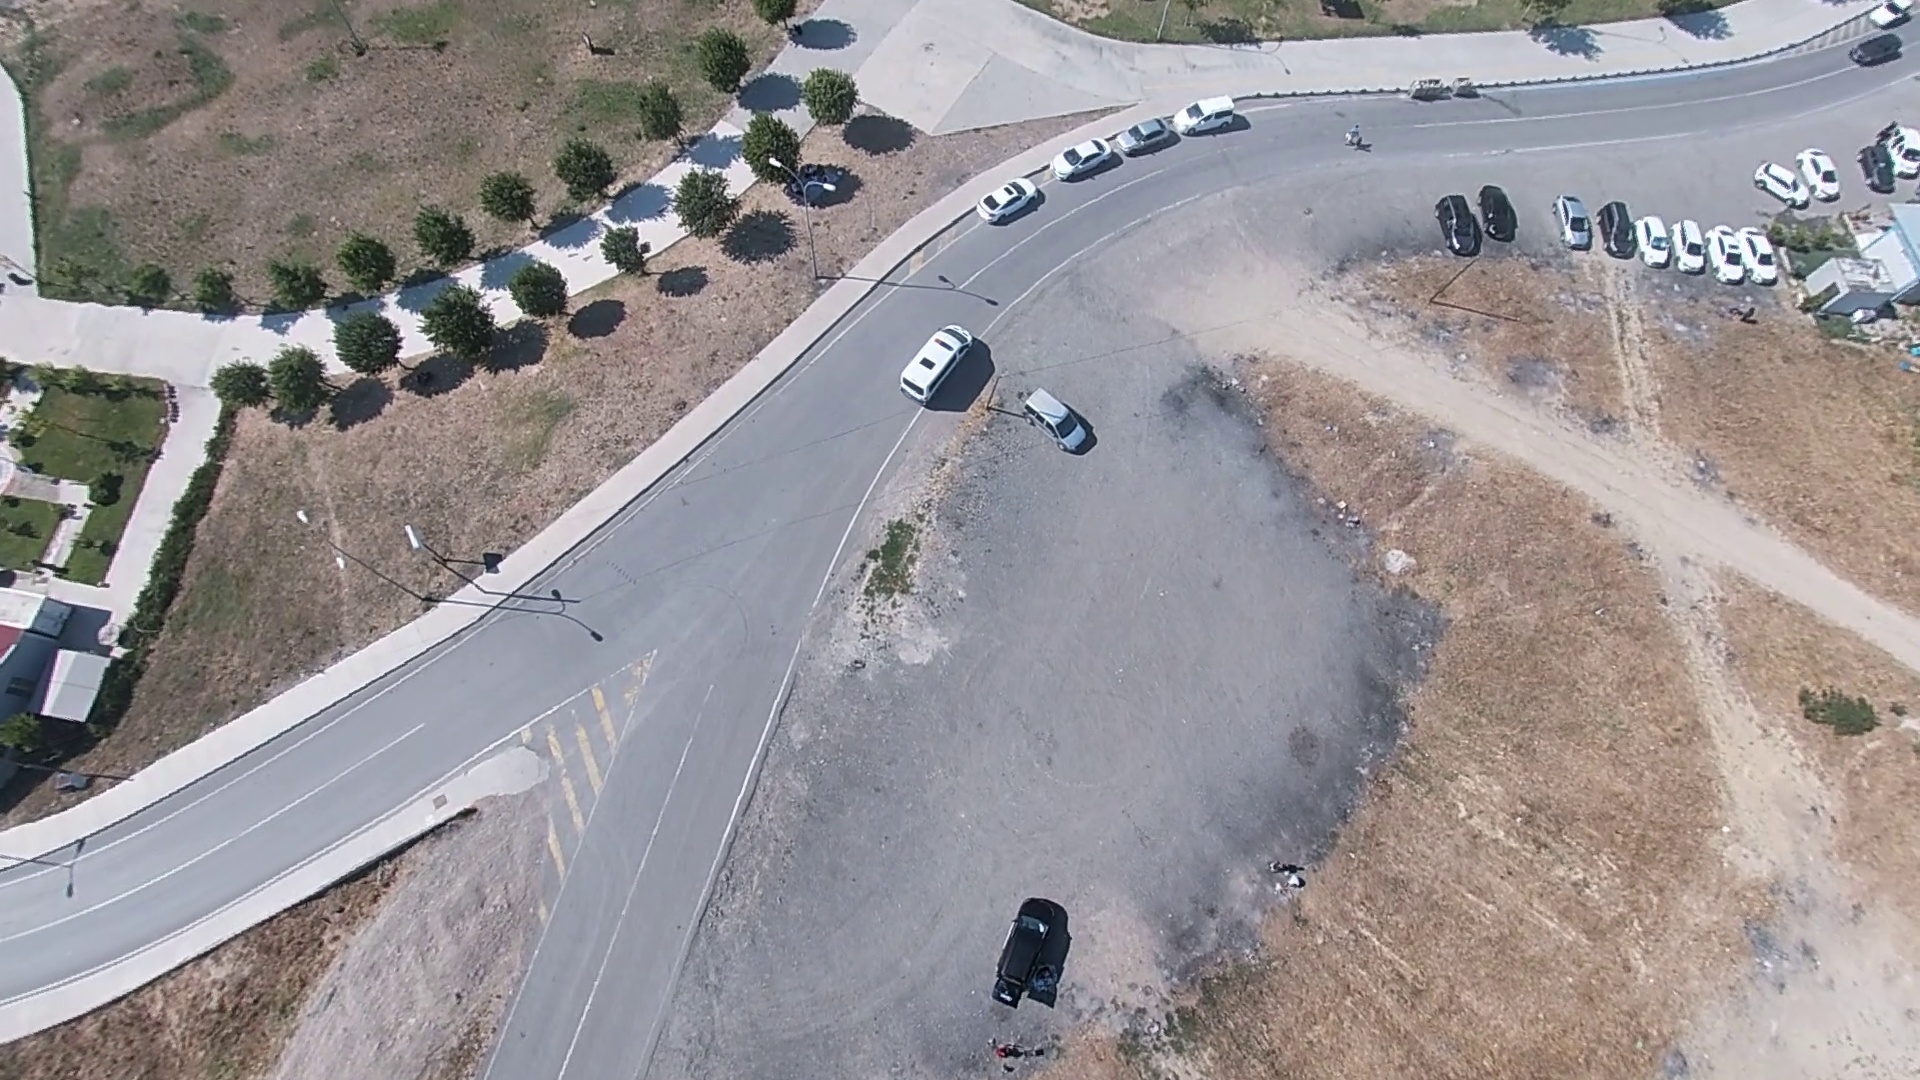arac: (986, 898, 1065, 1011), (903, 317, 980, 400), (1022, 385, 1095, 449), (981, 178, 1047, 226), (1754, 154, 1806, 204)
insan: (479, 545, 503, 583)
